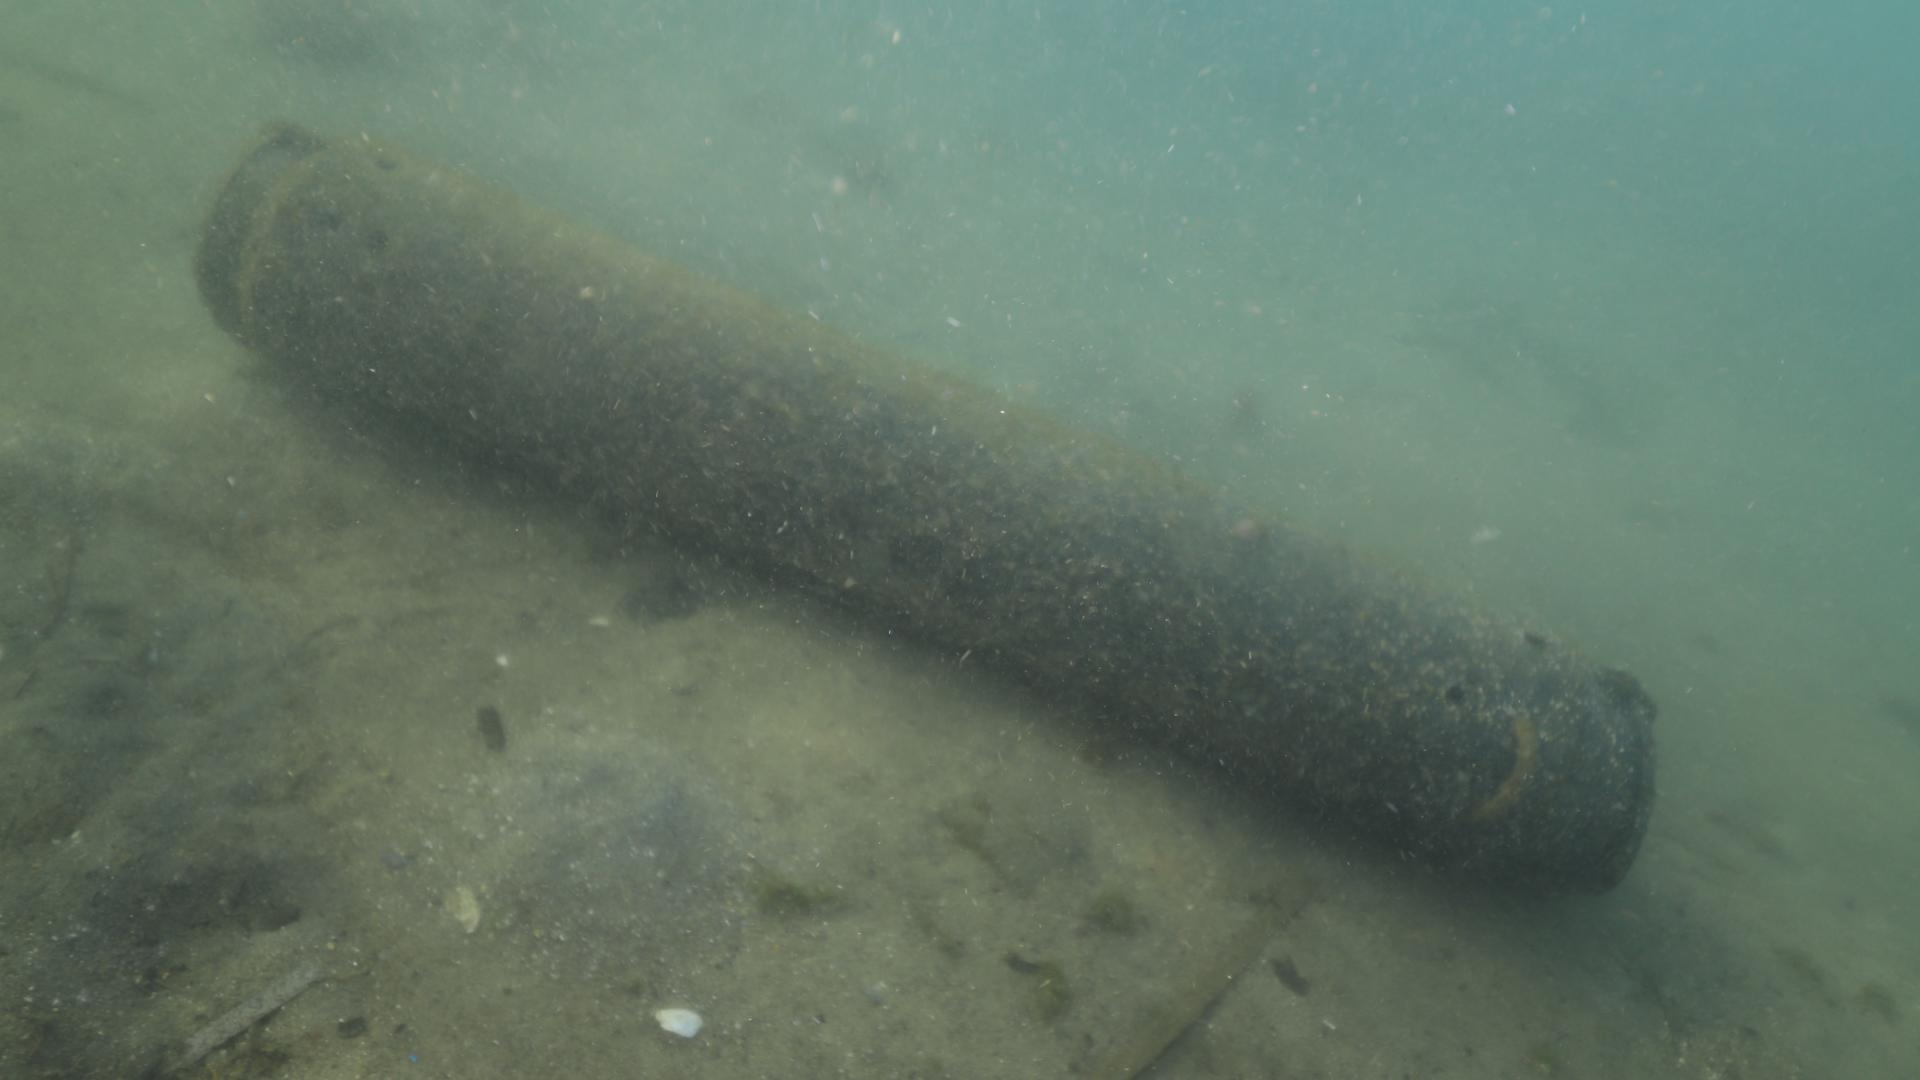eel fish trap: (182, 116, 1665, 905)
